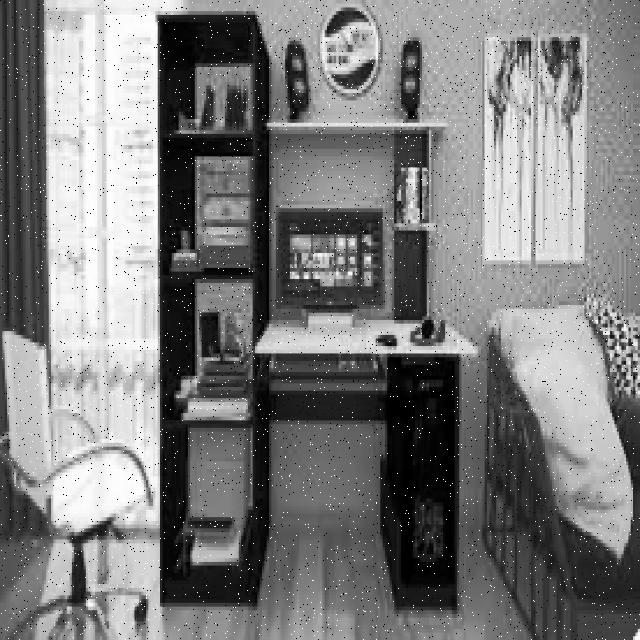book: (0, 327, 153, 640)
table: (252, 313, 478, 610)
